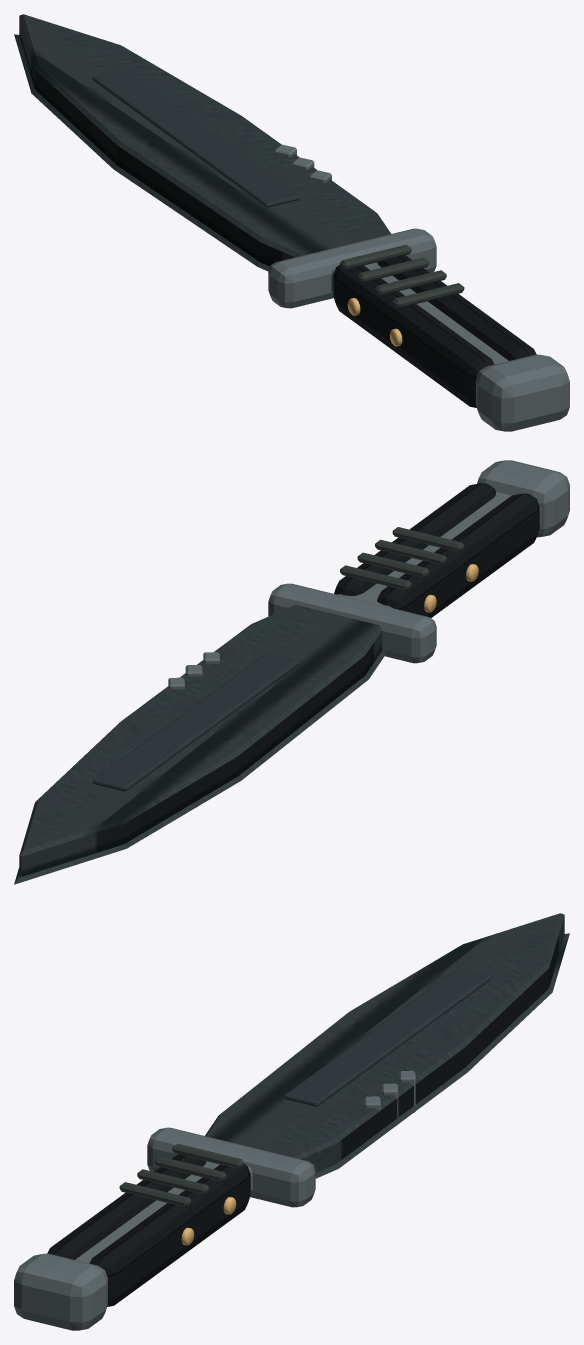
Rendered from pass65-field-knife-world-lod1.glb.
The picture shows the model from 3 angles, top to bottom: view 1: azimuth 30°, elevation 25°; view 2: azimuth 150°, elevation 25°; view 3: azimuth 330°, elevation 25°; orthographic projection.
Visible parts, largest first — view 1: FieldKnife_Blade_world-lod1_Mesh, Cube_001.051, field-knife-fuller, Cube_001.059, Cube_001.048, Cube_001.050, Cube_001.049, Cube_001.052, Cube_001.053, Cube_001.055, Cube_001.054; view 2: FieldKnife_Blade_world-lod1_Mesh, Cube_001.051, field-knife-fuller, Cube_001.048, Cube_001.059, Cube_001.050, Cube_001.049, Cube_001.053, Cube_001.052, Cube_001.054, Cube_001.055; view 3: FieldKnife_Blade_world-lod1_Mesh, Cube_001.050, field-knife-fuller, Cube_001.059, Cube_001.048, Cube_001.051, Cube_001.049, Cube_001.055, Cube_001.053, Cube_001.052, Cube_001.054.
Part boxes in pixels (x1,y1,x2,y2): FieldKnife_Blade_world-lod1_Mesh: (14, 14, 390, 271); Cube_001.051: (333, 265, 494, 407); field-knife-fuller: (92, 69, 299, 207); Cube_001.059: (476, 354, 569, 431); Cube_001.048: (268, 228, 436, 308); Cube_001.050: (377, 255, 536, 360); Cube_001.049: (331, 262, 508, 364); Cube_001.052: (340, 244, 411, 269); Cube_001.053: (357, 257, 429, 282); Cube_001.055: (392, 283, 464, 308); Cube_001.054: (375, 270, 446, 295); FieldKnife_Blade_world-lod1_Mesh: (14, 605, 385, 884); Cube_001.051: (377, 493, 539, 617); field-knife-fuller: (92, 653, 299, 791); Cube_001.048: (268, 583, 436, 663); Cube_001.059: (477, 460, 569, 537); Cube_001.050: (334, 483, 496, 595); Cube_001.049: (336, 491, 540, 608); Cube_001.053: (357, 552, 429, 577); Cube_001.052: (340, 565, 411, 590); Cube_001.054: (375, 539, 446, 564); Cube_001.055: (392, 527, 464, 552); FieldKnife_Blade_world-lod1_Mesh: (205, 913, 569, 1178); Cube_001.050: (89, 1164, 250, 1306); field-knife-fuller: (284, 968, 491, 1106); Cube_001.059: (14, 1253, 107, 1330); Cube_001.048: (147, 1127, 315, 1207); Cube_001.051: (47, 1154, 206, 1259); Cube_001.049: (75, 1161, 252, 1263); Cube_001.055: (119, 1182, 191, 1207); Cube_001.053: (154, 1156, 226, 1181); Cube_001.052: (172, 1143, 243, 1168); Cube_001.054: (137, 1169, 208, 1194).
Bounding box in the file's own units: 0.39 × 0.141 × 2.25.
6 materials, 2 textured.
